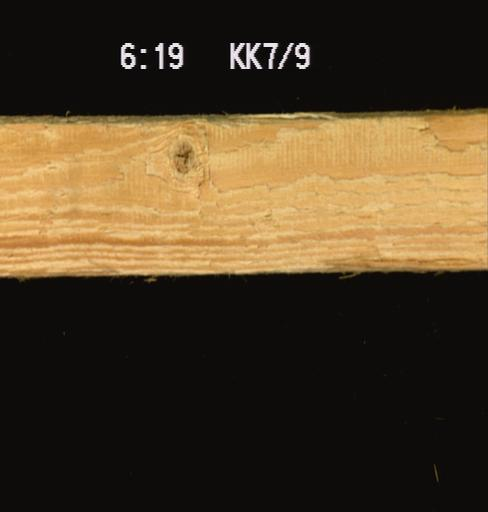sound_knot: (158, 128, 207, 189)
wave: (314, 249, 486, 271)
